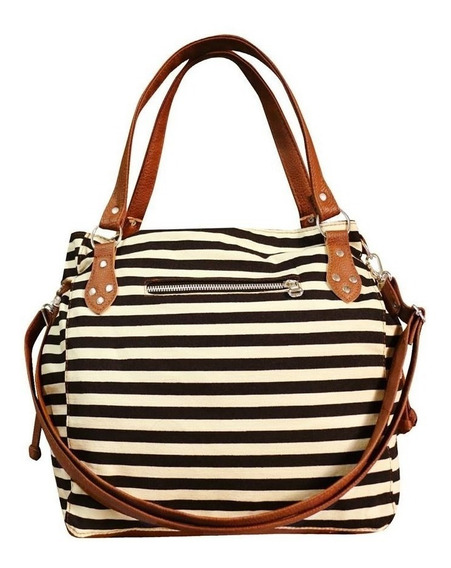cartera: (22, 32, 424, 540)
